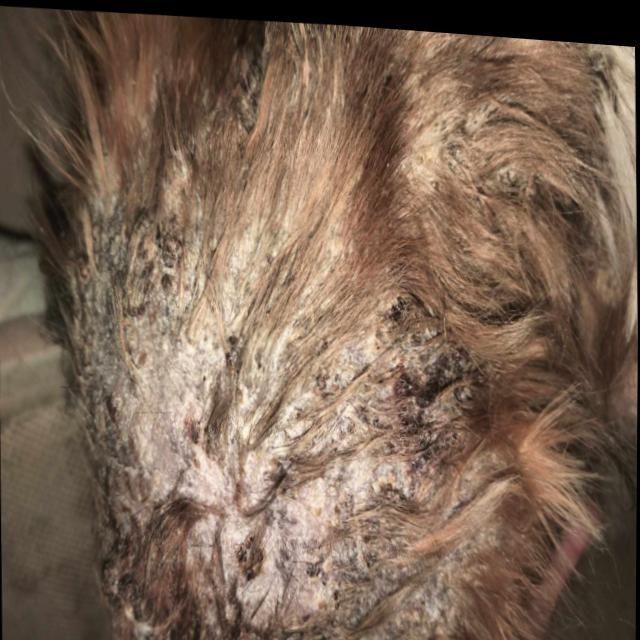demodicosis: (54, 208, 367, 640)
